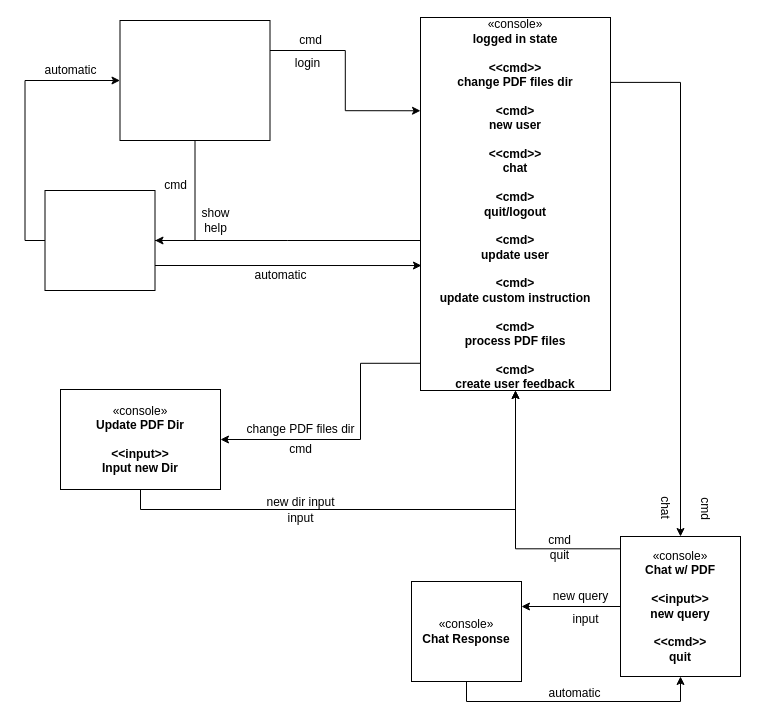
This 758x727 diagram has some shape labels left out. The box of each missing label's shape, as (x1, y1, x2, y2) in pixels:
«console» Help Menu: (44, 190, 155, 290)
«console» starting state <<cmd>> login <<cmd>> show help: (119, 20, 270, 140)
